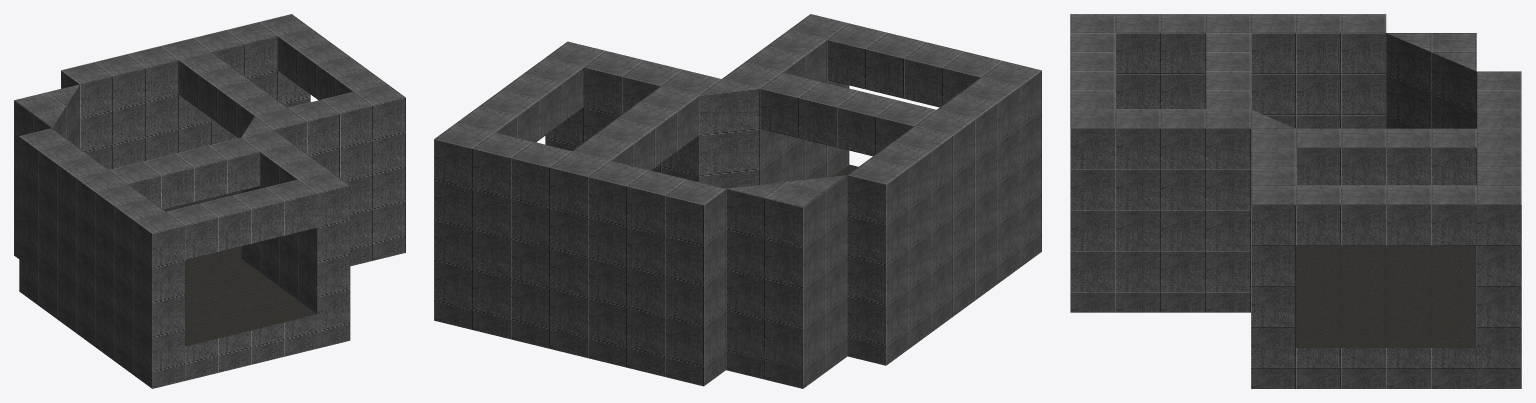
File: test_map_chunk.obj
The picture shows the model from 3 angles, left to right: view 1: azimuth 30°, elevation 25°; view 2: azimuth 150°, elevation 25°; view 3: azimuth 270°, elevation 25°; orthographic projection. The views are drawn at different scales.
Visible parts, largest first — view 1: entity0_brush7, entity0_brush2, entity0_brush3, entity0_brush6, entity0_brush5, entity0_brush12, entity0_brush11, entity0_brush10, entity0_brush1, entity0_brush8, entity0_brush9; view 2: entity0_brush2, entity0_brush7, entity0_brush8, entity0_brush11, entity0_brush12, entity0_brush3, entity0_brush6, entity0_brush4, entity0_brush10, entity0_brush1, entity0_brush9; view 3: entity0_brush6, entity0_brush7, entity0_brush0, entity0_brush2, entity0_brush3, entity0_brush1, entity0_brush10, entity0_brush8, entity0_brush9, entity0_brush11, entity0_brush12, entity0_brush4.
Boxes of the visible parts, box(x1,y1,x2,y2) form: entity0_brush7: box(19, 128, 185, 388); entity0_brush2: box(61, 14, 310, 169); entity0_brush3: box(255, 83, 405, 266); entity0_brush6: box(241, 130, 350, 348); entity0_brush5: box(185, 258, 317, 380); entity0_brush12: box(166, 179, 317, 259); entity0_brush11: box(109, 138, 259, 209); entity0_brush10: box(179, 52, 287, 138); entity0_brush1: box(277, 28, 386, 100); entity0_brush8: box(14, 84, 79, 258); entity0_brush9: box(14, 200, 240, 271); entity0_brush2: box(434, 123, 725, 386); entity0_brush7: box(847, 61, 1041, 365); entity0_brush8: box(726, 175, 847, 388); entity0_brush11: box(760, 72, 936, 156); entity0_brush12: box(827, 23, 1002, 107); entity0_brush3: box(545, 41, 721, 181); entity0_brush6: box(722, 14, 849, 184); entity0_brush4: box(699, 79, 760, 188); entity0_brush10: box(572, 86, 699, 170); entity0_brush1: box(457, 58, 583, 142); entity0_brush9: box(726, 330, 812, 388); entity0_brush6: box(1070, 109, 1250, 312); entity0_brush7: box(1070, 14, 1386, 128); entity0_brush0: box(1296, 271, 1476, 388); entity0_brush2: box(1476, 71, 1521, 388); entity0_brush3: box(1251, 128, 1295, 388); entity0_brush1: box(1296, 185, 1476, 245); entity0_brush10: box(1296, 128, 1476, 185); entity0_brush8: box(1386, 33, 1476, 128); entity0_brush9: box(1296, 245, 1476, 271); entity0_brush11: box(1205, 33, 1250, 109); entity0_brush12: box(1070, 33, 1115, 109); entity0_brush4: box(1251, 109, 1295, 128).
Bounding box in the file's own units: 320 × 144 × 320.
